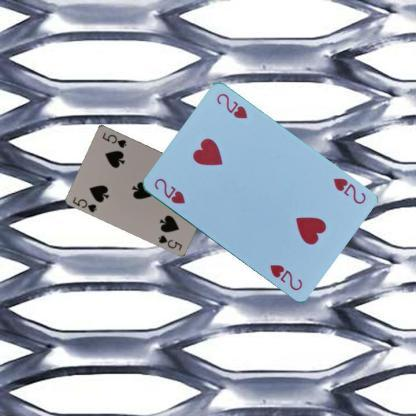2h: (330, 175, 367, 206), (151, 176, 186, 206)
5s: (70, 194, 98, 214)
